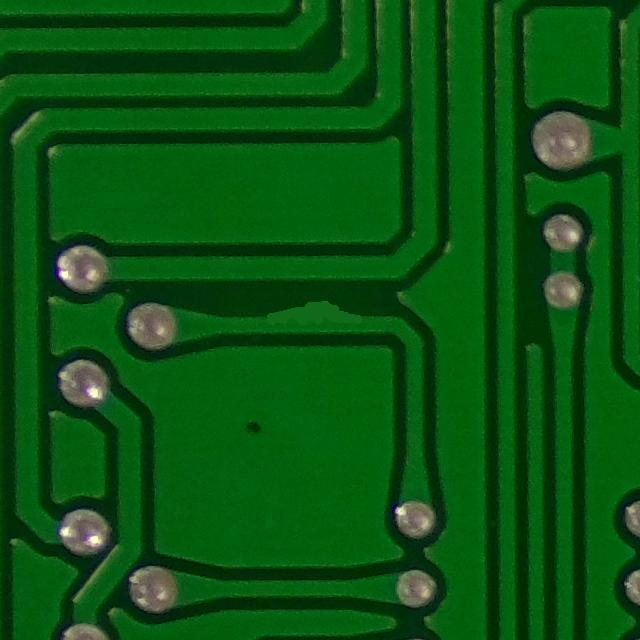spur: (258, 289, 382, 351)
